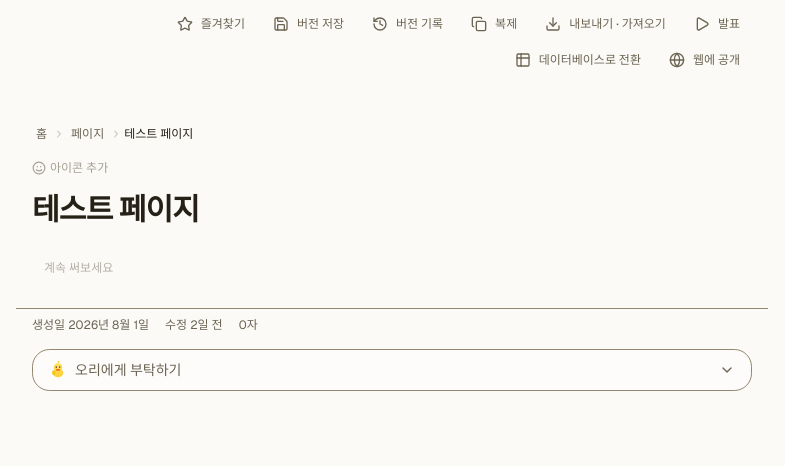
Test: PageEditor — 공개/비공개 › 공개 실패 시 안내 메시지를 보여준다
Click the button "웹에 공개" at (704, 60), box [657,44,752,76]
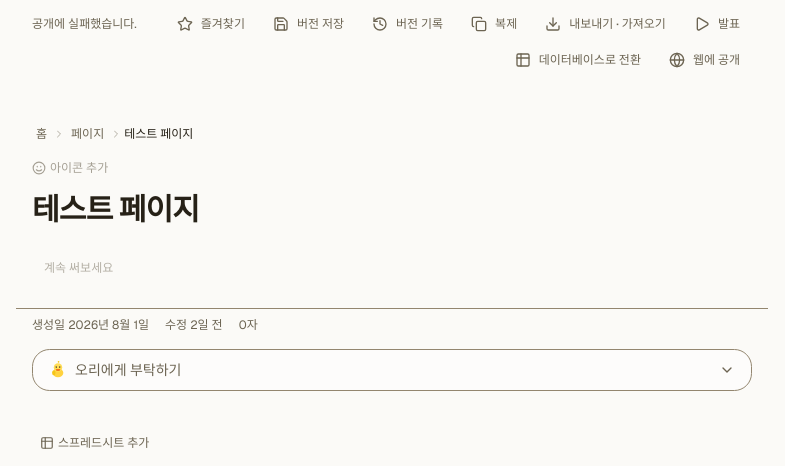
Result: the text "공개에 실패했습니다." is shown at [32,16,137,32]
